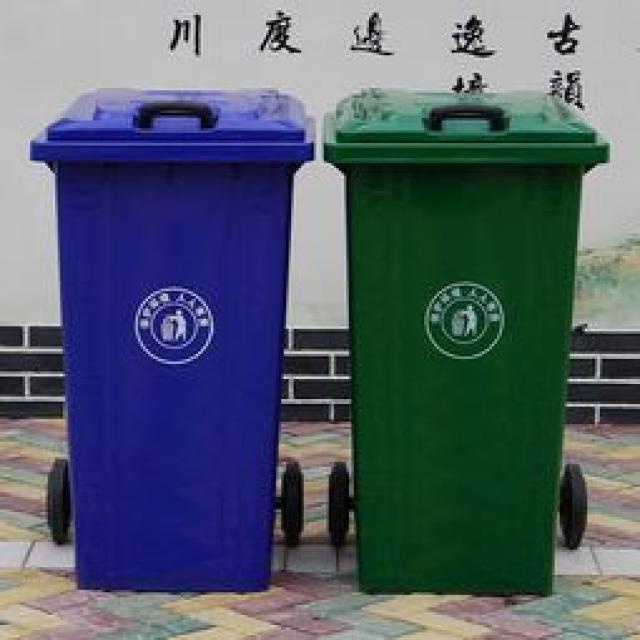garbage_bin: (28, 85, 314, 590), (322, 88, 608, 592)
